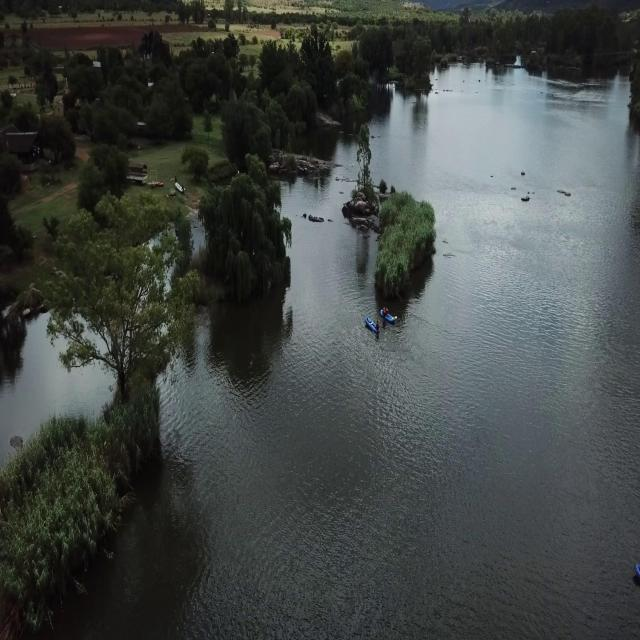kayak: (378, 304, 398, 326), (365, 313, 381, 339)
